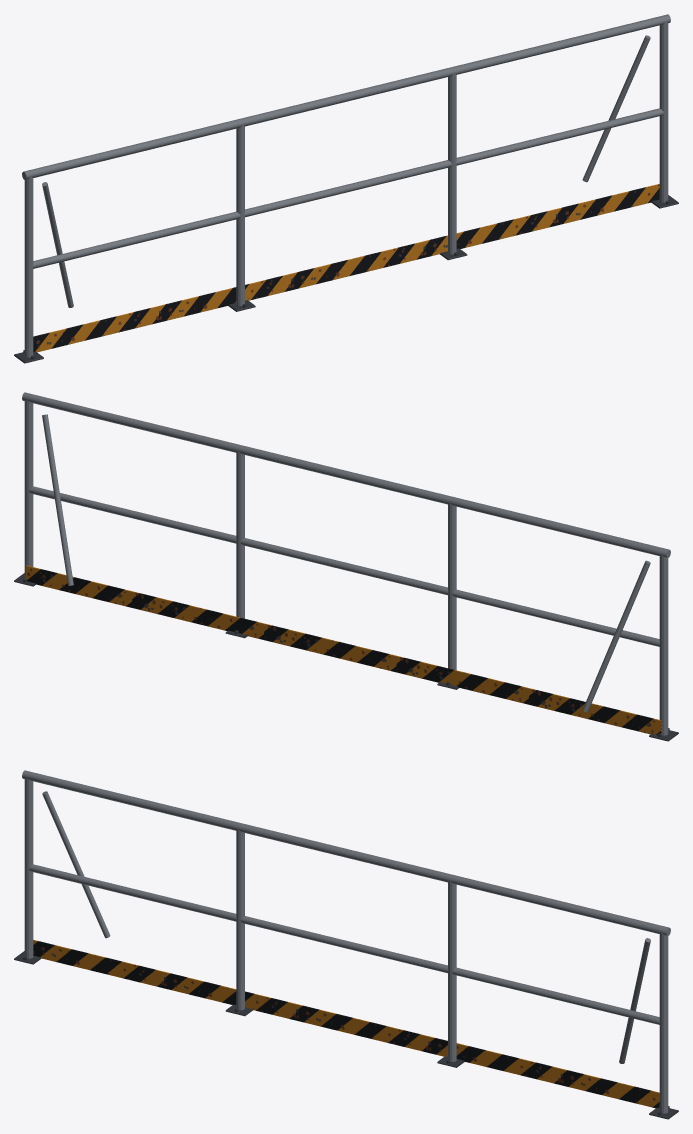
The model's file is foundry_deck_rail.glb.
3 views of the same model, one above another, from view 1: azimuth 30°, elevation 25°; view 2: azimuth 150°, elevation 25°; view 3: azimuth 330°, elevation 25° (orthographic).
Visible parts, largest first — view 1: rail_toe, rail_posts, rail_rail_top, rail_rail_mid, rail_brace_p, rail_brace_n, rail_bases; view 2: rail_toe, rail_posts, rail_rail_top, rail_rail_mid, rail_brace_p, rail_brace_n; view 3: rail_toe, rail_posts, rail_rail_top, rail_rail_mid, rail_brace_n, rail_brace_p, rail_bases.
Boxes of the visible parts, <box> form: rail_toe: <box>33,184,659,352</box>; rail_posts: <box>24,21,668,357</box>; rail_rail_top: <box>22,14,670,179</box>; rail_rail_mid: <box>33,108,663,268</box>; rail_brace_p: <box>582,35,650,182</box>; rail_brace_n: <box>42,182,73,307</box>; rail_bases: <box>14,195,678,363</box>; rail_toe: <box>26,565,661,735</box>; rail_posts: <box>24,399,668,735</box>; rail_rail_top: <box>22,392,670,557</box>; rail_rail_mid: <box>29,486,659,646</box>; rail_brace_p: <box>42,414,73,585</box>; rail_brace_n: <box>582,560,650,712</box>; rail_toe: <box>33,940,659,1108</box>; rail_posts: <box>24,777,668,1113</box>; rail_rail_top: <box>22,770,670,935</box>; rail_rail_mid: <box>29,864,659,1024</box>; rail_brace_n: <box>42,791,110,938</box>; rail_brace_p: <box>619,938,650,1063</box>; rail_bases: <box>14,951,678,1119</box>.
Size of the model in its own units: 4.12 by 1.12 by 0.2756.
Materials: 3 (1 with a texture image).
